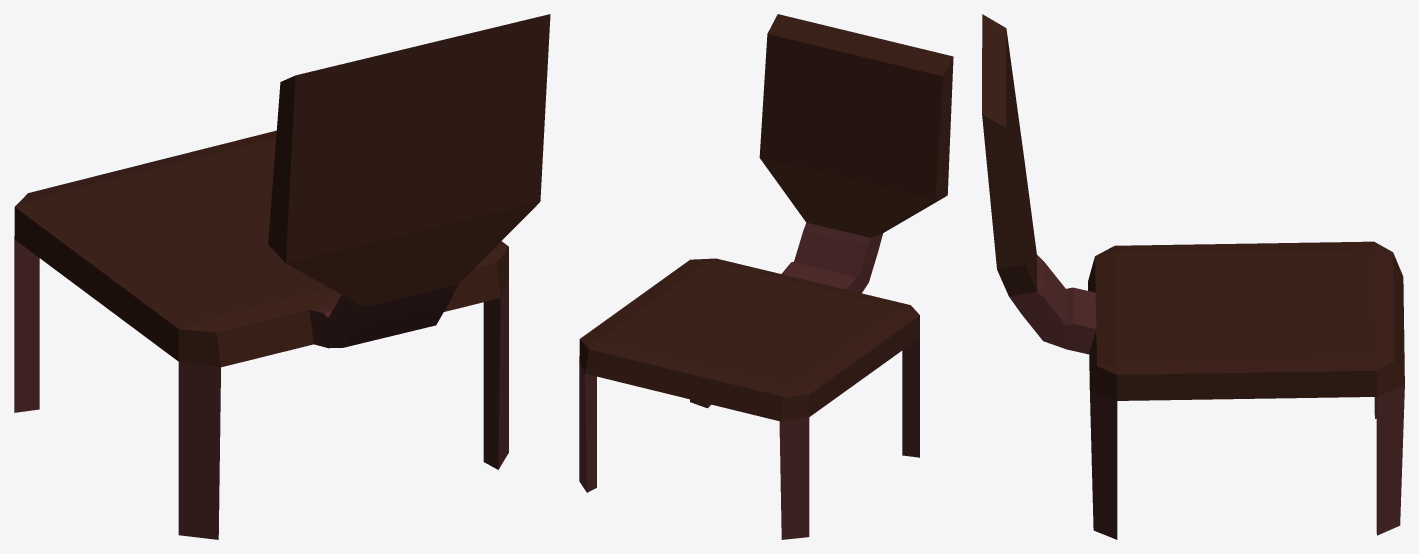
Rendered from chair1.fbx.
3 views of the same model, side by side, from view 1: azimuth 30°, elevation 25°; view 2: azimuth 150°, elevation 25°; view 3: azimuth 270°, elevation 25° (orthographic). The views are drawn at different scales.
Parts seen in each view (by area): view 1: Cube; view 2: Cube; view 3: Cube.
Boxes of the visible parts, x1,y1,x2,y2 form: Cube: [14, 14, 550, 539]; Cube: [579, 14, 953, 539]; Cube: [982, 14, 1404, 539].
Bounding box in the file's own units: 101 × 148 × 138.
